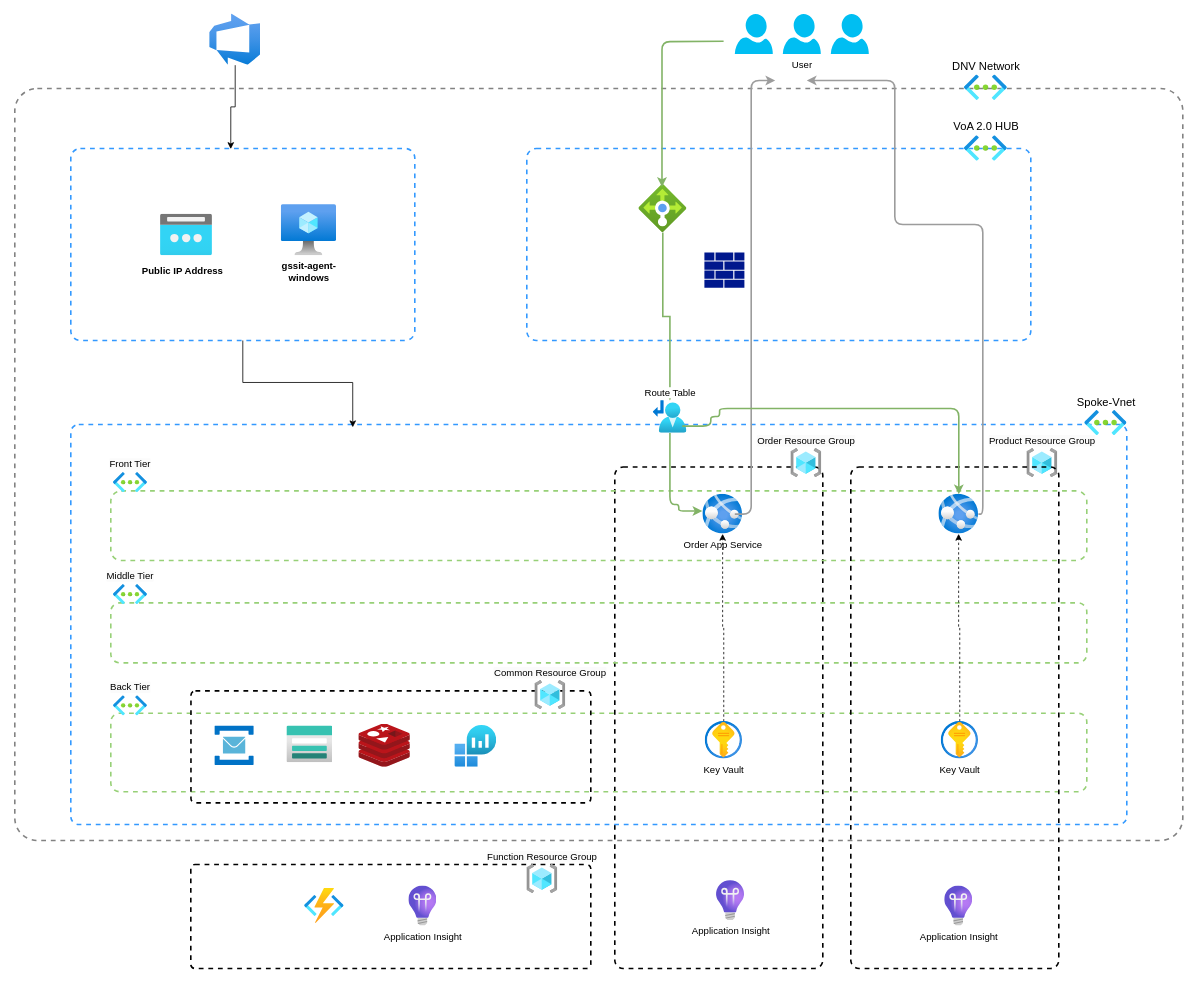
This 1197x983 diagram has some shape labels left out. The centre of each missing label's shape, as x and y in pixels:
DevOps: the point at 234,39
F5: the point at 724,269
Function App: the point at 323,905
Load Balance: the point at 662,208
Log Analytics Workspace: the point at 475,746
Product App Service: the point at 958,513
Redis: the point at 384,745
Service Bus: the point at 234,745
Storage Account: the point at 309,744
